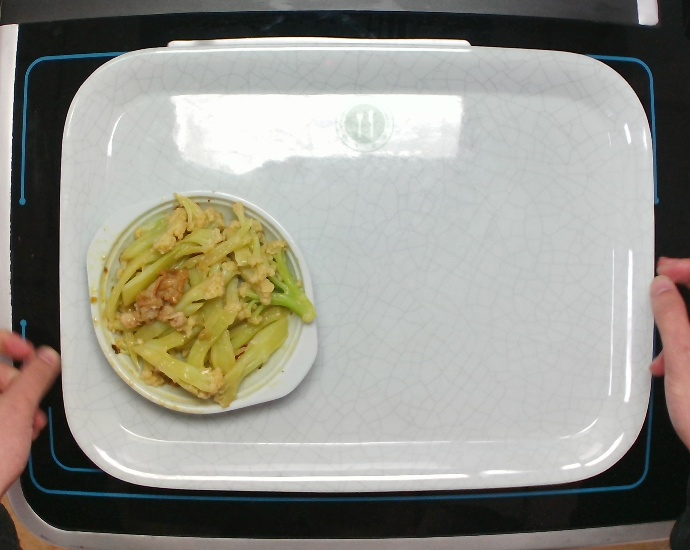JYsf-Shuang_Er_Pan: (84, 188, 324, 421)
